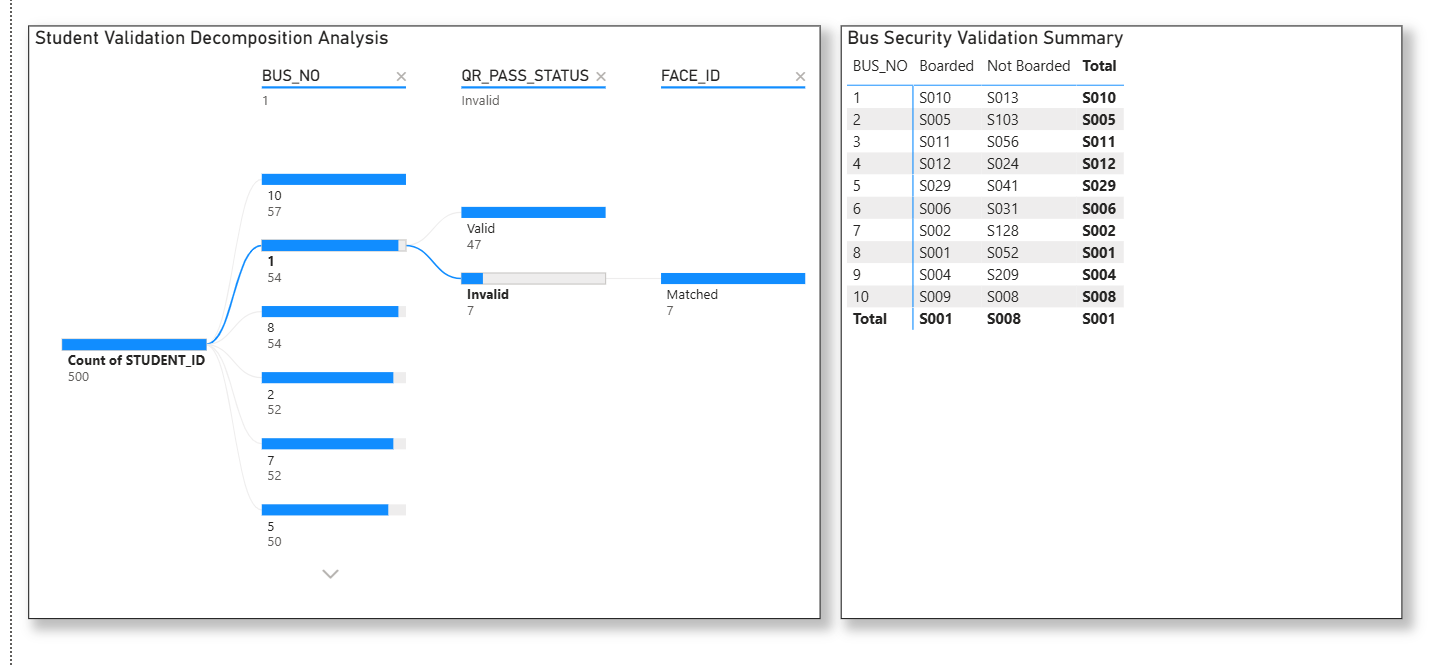

What the dashboard file says about the page in this screenshot:
{"tool":"powerbi","page":{"name":"Advanced/Unique Dashboard","canvas":[1280,720],"ordinal":3},"visuals":[{"type":"decompositionTreeVisual","title":"Student Validation Decomposition Analysis","fields":{"Analyze":["CountNonNull(Student_Details.STUDENT_ID)"],"ExplainBy":["Student_Details.BUS_NO","Student_Details.QR_PASS_STATUS","Student_Details.FACE_ID"]},"box":[14.9,29.9,714,534.9],"z":0},{"type":"pivotTable","title":"Bus Security Validation Summary","fields":{"Rows":["Student_Details.BUS_NO"],"Columns":["Student_Details.BOARDING_STATUS"],"Values":["Min(Student_Details.STUDENT_ID)"]},"box":[747.6,29.9,506.3,534.9],"z":1000}]}

Visuals, with their boxes on the page's 1280x720 design canvas (x1, y1, x2, y2). These are canvas units, not pixel positions in the 1431x665 screenshot, which may show the page scaled, cropped or inside an application window:
"Student Validation Decomposition Analysis" decompositionTreeVisual: left=15, top=30, right=729, bottom=565
"Bus Security Validation Summary" pivotTable: left=748, top=30, right=1254, bottom=565
